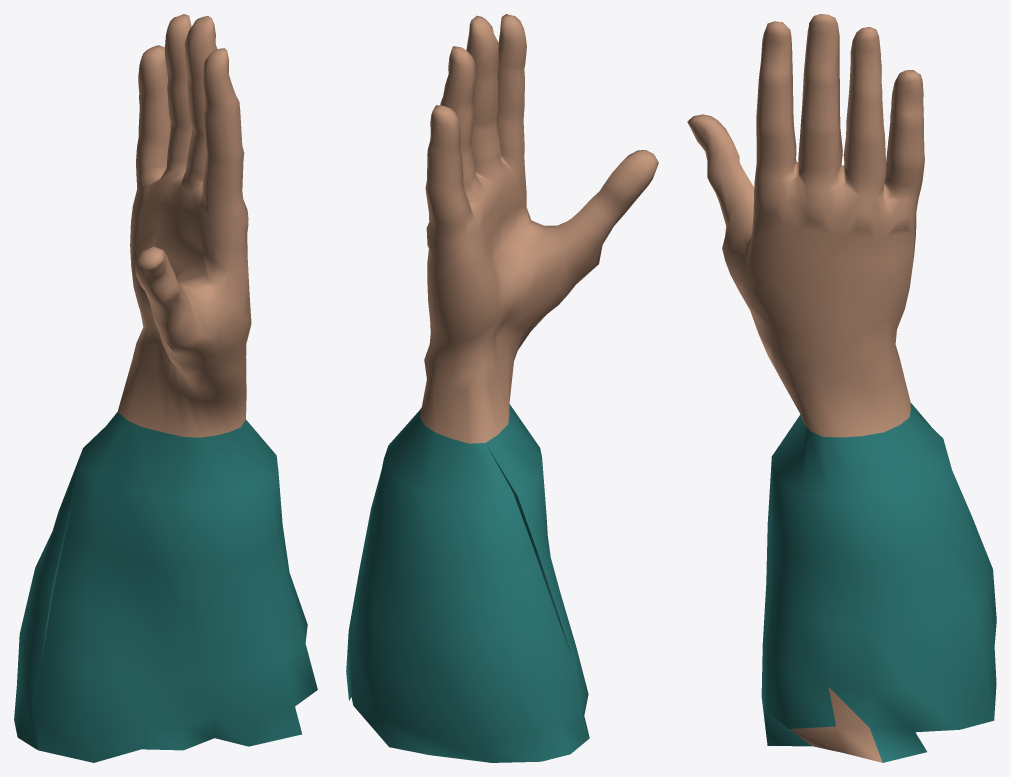
The model's file is pov_wave.glb.
The picture shows the model from 3 angles, left to right: view 1: azimuth 30°, elevation 25°; view 2: azimuth 150°, elevation 25°; view 3: azimuth 270°, elevation 25°; orthographic projection. The views are drawn at different scales.
Visible parts, largest first — view 1: pov_wave; view 2: pov_wave; view 3: pov_wave.
Boxes of the visible parts, <box> form: pov_wave: <box>14,14,317,762</box>; pov_wave: <box>346,14,658,762</box>; pov_wave: <box>687,14,996,762</box>.
Size of the model in its own units: 0.1625 by 0.4443 by 0.1769.
